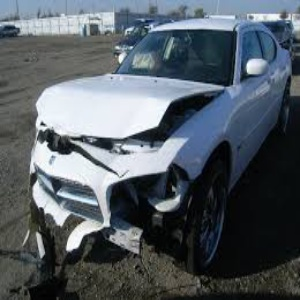bonnet: (64, 70, 193, 138)
bumper: (86, 172, 175, 258)
